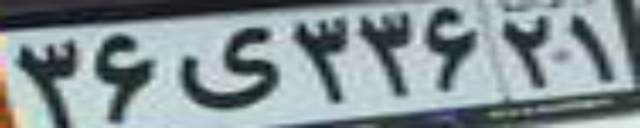1: (565, 13, 616, 82)
2: (500, 12, 553, 88)
3: (14, 38, 80, 127), (292, 14, 355, 106), (356, 11, 418, 97)
6: (91, 34, 160, 124), (422, 7, 482, 91)
ye: (179, 26, 282, 111)
